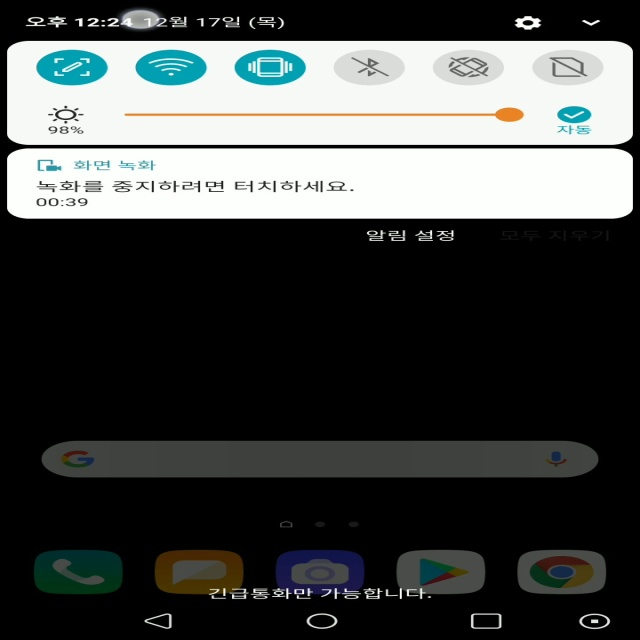Cursor: (118, 8, 162, 31)
